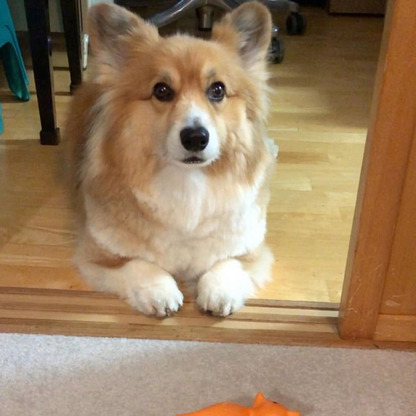Corgi: (76, 8, 287, 315)
